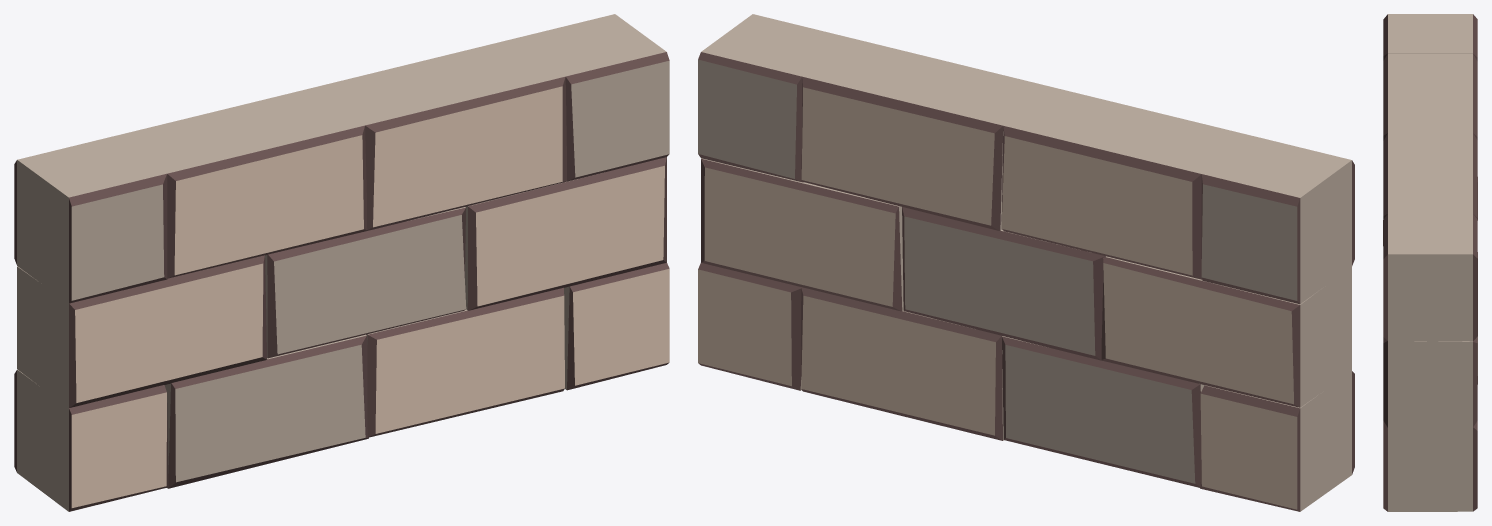
The model's file is greek_wall_1_med.fbx.
3 views of the same model, side by side, from view 1: azimuth 30°, elevation 25°; view 2: azimuth 150°, elevation 25°; view 3: azimuth 270°, elevation 25° (orthographic). The views are drawn at different scales.
Visible parts, largest first — view 1: Cube.011; view 2: Cube.011; view 3: Cube.011.
Part boxes in pixels (x1,y1,x2,y2): Cube.011: (14,14,669,511); Cube.011: (698,14,1354,511); Cube.011: (1383,14,1477,511).
Bounding box in the file's own units: 300 × 151 × 50.02.
